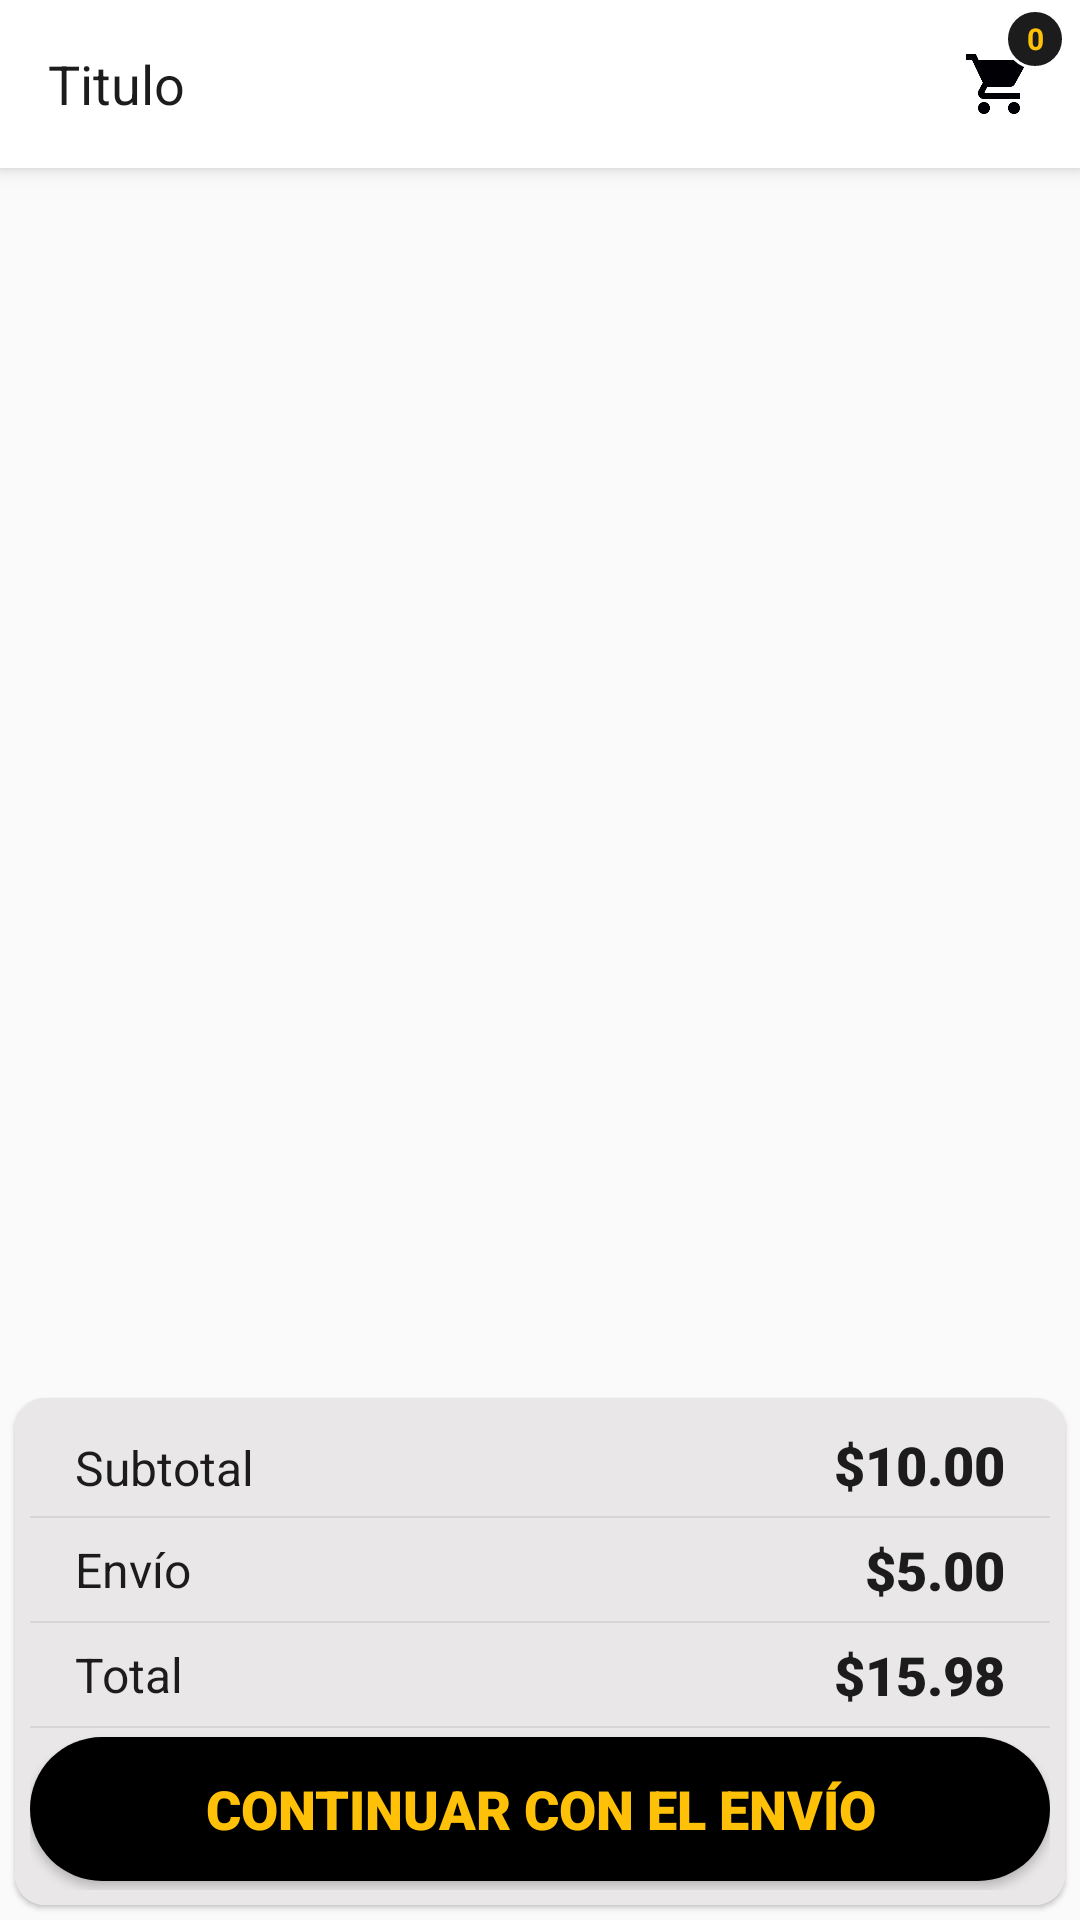

Screen size 1080 x 1920. Icon name, then its center in pixels as [x,y]:
shop: [995,84]
